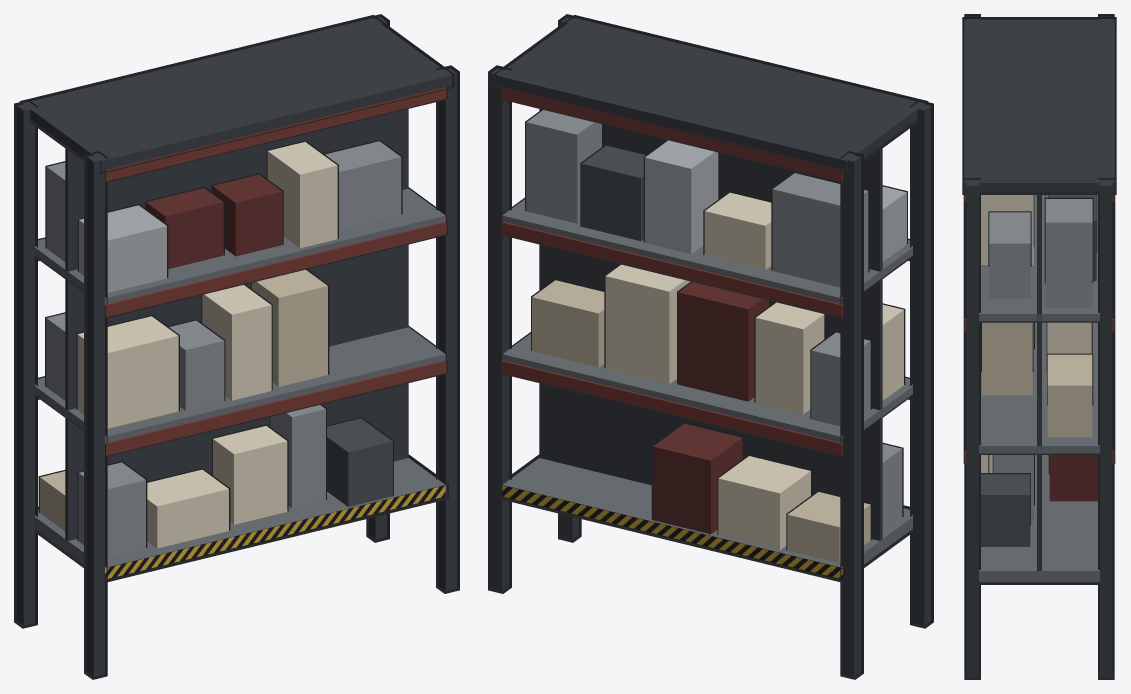
File: SM_Shelf.glb
The picture shows the model from 3 angles, left to right: view 1: azimuth 30°, elevation 25°; view 2: azimuth 150°, elevation 25°; view 3: azimuth 270°, elevation 25°; orthographic projection. The views are drawn at different scales.
Visible parts, largest first — view 1: SM_Shelf, SM_Shelf_Outline; view 2: SM_Shelf, SM_Shelf_Outline; view 3: SM_Shelf, SM_Shelf_Outline.
Part boxes in pixels (left/top/right/bottom): SM_Shelf: left=17, top=17, right=456, bottom=676; SM_Shelf_Outline: left=14, top=14, right=459, bottom=679; SM_Shelf: left=491, top=17, right=930, bottom=676; SM_Shelf_Outline: left=488, top=14, right=933, bottom=679; SM_Shelf: left=964, top=16, right=1114, bottom=677; SM_Shelf_Outline: left=962, top=14, right=1116, bottom=679.
Size of the model in its own units: 3.88 by 5.24 by 1.48.
Materials: 2 (1 with a texture image).
